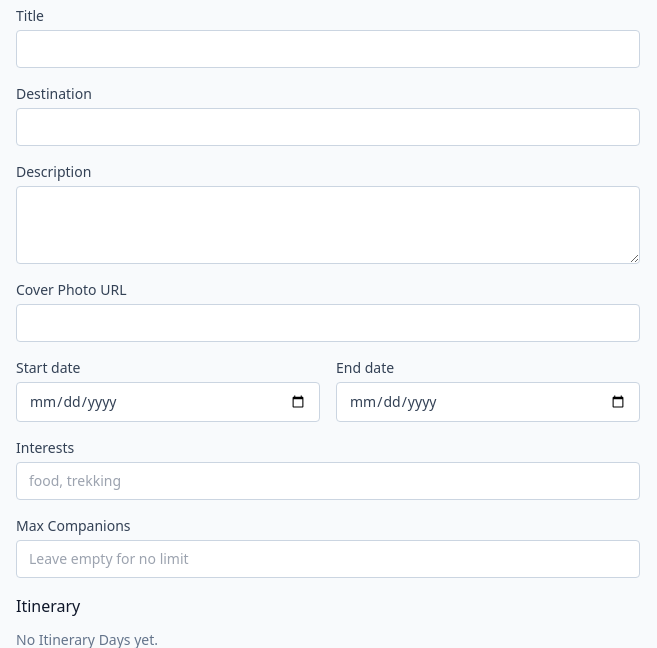
PlanForm › refuses_an_end_date_before_the_start_date_without_calling_the_api
Type "Goa Escape" into the field labelled "Title". click: (328, 49)
box: [16,30,640,68]
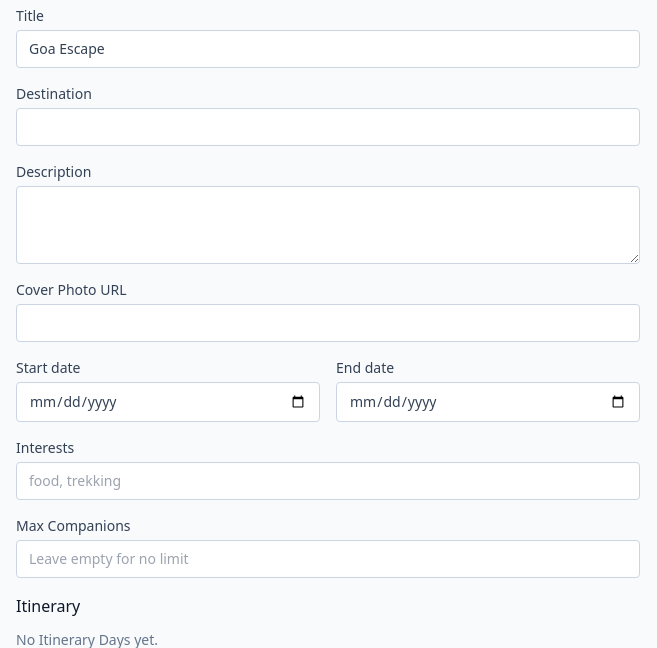
Type "Goa" into the field labelled "Destination". click: (328, 127)
box: [16,108,640,146]
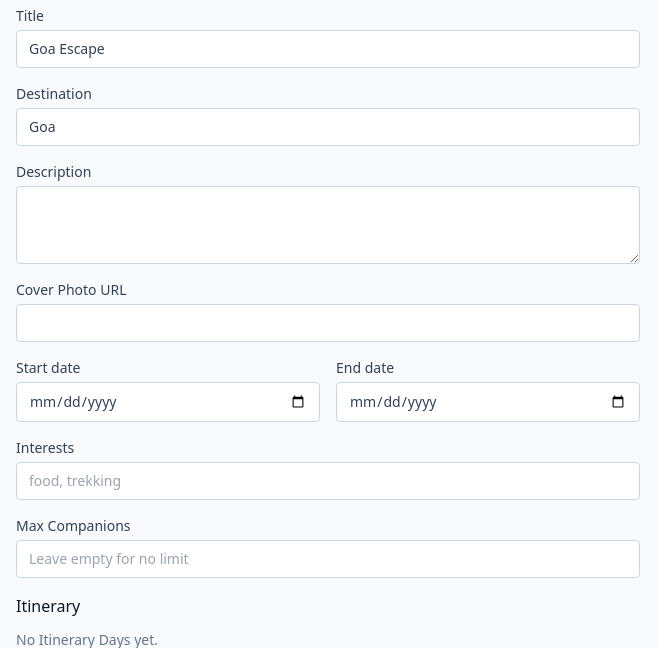
Type "2030-05-10" into the date field labelled "Start date". click: (168, 402)
box: [16,382,320,422]
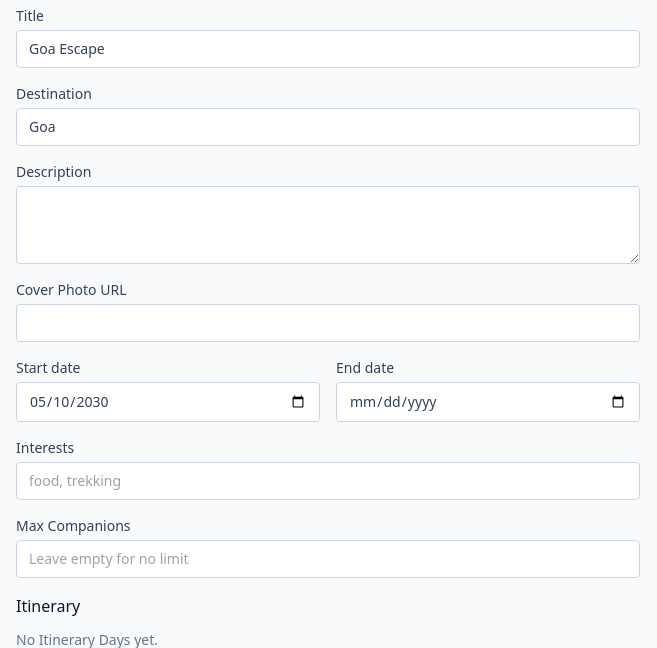
Type "2030-05-01" into the date field labelled "End date". click: (488, 402)
box: [336,382,640,422]
(page scrolled)
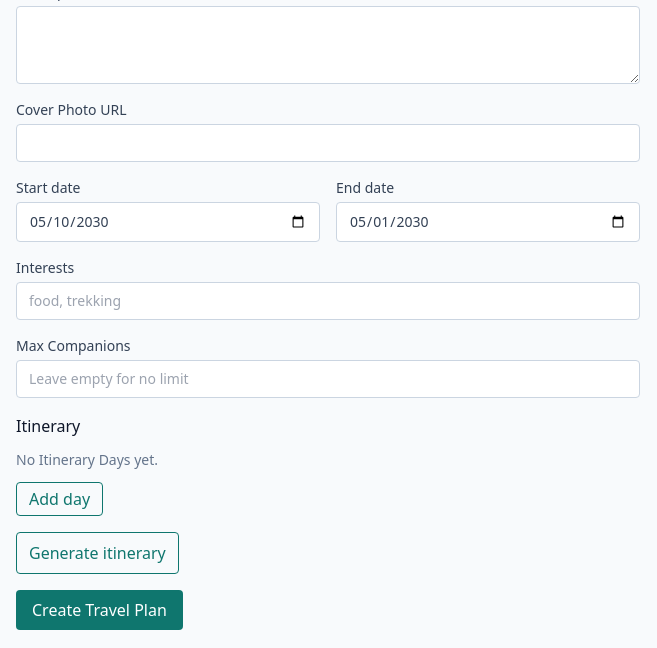
Click the button "Create Travel Plan". click: (99, 610)
box: [16,590,183,630]
(page scrolled)
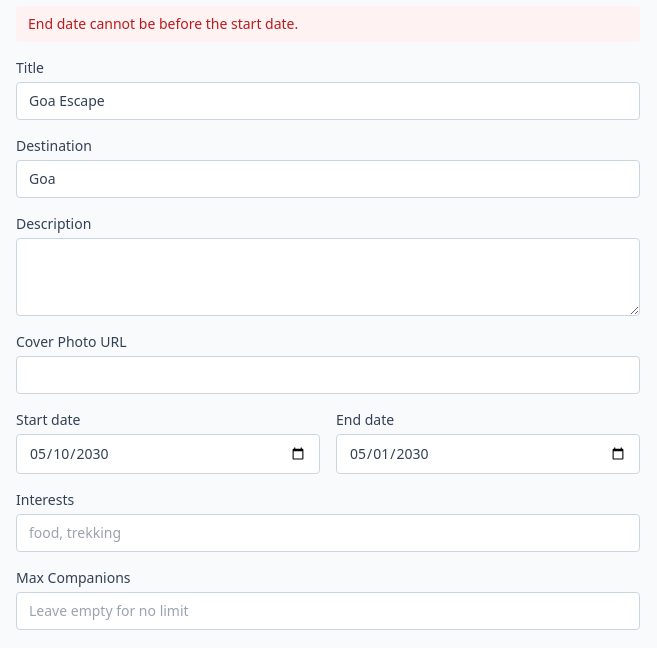
Expected: the message shows "before the start", [28,14,298,33]
